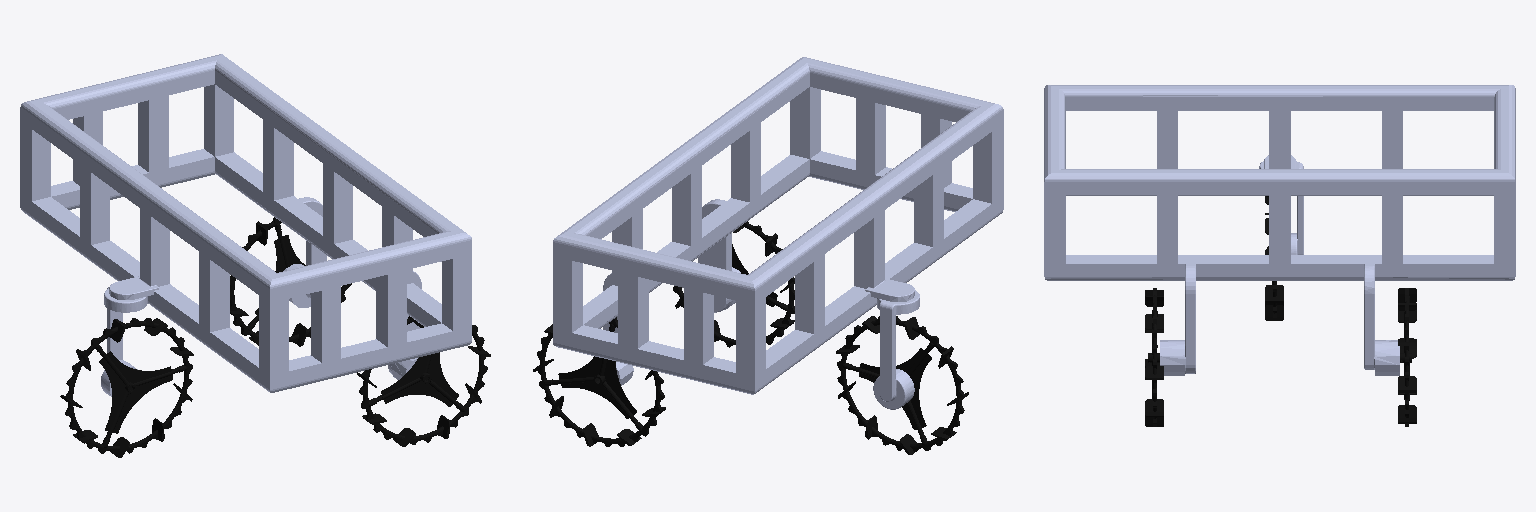
URDF robot description (Sim_Robot_V2):
<?xml version="1.0" encoding="utf-8"?>
<!-- This URDF was automatically created by SolidWorks to URDF Exporter! Originally created by Stephen Brawner (brawner@gmail.com) 
     Commit Version: 1.6.0-4-g7f85cfe  Build Version: 1.6.7995.38578
     For more information, please see http://wiki.ros.org/sw_urdf_exporter -->
<robot
  name="Sim_Robot_V2">
  <link
    name="base_link">
    <inertial>
      <origin
        xyz="0.031015 -0.0039718 -0.31519"
        rpy="0 0 0" />
      <mass
        value="350" />
      <inertia
        ixx="123.38"
        ixy="0.36607"
        ixz="3.3164"
        iyy="44.362"
        iyz="-0.33469"
        izz="147.18" />
    </inertial>
    <visual>
      <origin
        xyz="0 0 0"
        rpy="0 0 0" />
      <geometry>
        <mesh
          filename="package://Sim_Robot_V2/meshes/base_link.STL" />
      </geometry>
      <material
        name="">
        <color
          rgba="0.79216 0.81961 0.93333 1" />
      </material>
    </visual>
    <collision>
      <origin
        xyz="0 0 0"
        rpy="0 0 0" />
      <geometry>
        <mesh
          filename="package://Sim_Robot_V2/meshes/base_link.STL" />
      </geometry>
    </collision>
  </link>
  <link
    name="Front_Left_Link">
    <inertial>
      <origin
        xyz="-5.7704E-05 0.0039655 0.00020942"
        rpy="0 0 0" />
      <mass
        value="5" />
      <inertia
        ixx="0.069062"
        ixy="6.5825E-08"
        ixz="-1.7849E-06"
        iyy="0.13715"
        iyz="-2.2613E-07"
        izz="0.069062" />
    </inertial>
    <visual>
      <origin
        xyz="0 0 0"
        rpy="0 0 0" />
      <geometry>
        <mesh
          filename="package://Sim_Robot_V2/meshes/Front_Left_Link.STL" />
      </geometry>
      <material
        name="">
        <color
          rgba="0.10588 0.10588 0.10588 1" />
      </material>
    </visual>
    <collision>
      <origin
        xyz="0 0 0"
        rpy="0 0 0" />
      <geometry>
        <mesh
          filename="package://Sim_Robot_V2/meshes/Front_Left_Link.STL" />
      </geometry>
    </collision>
  </link>
  <joint
    name="Front_Left_Joint"
    type="continuous">
    <origin
      xyz="0.575 0.60032 -0.93"
      rpy="0 0 0" />
    <parent
      link="base_link" />
    <child
      link="Front_Left_Link" />
    <axis
      xyz="0 1 0" />
  </joint>
  <link
    name="Front_Right_Link">
    <inertial>
      <origin
        xyz="5.0736E-05 0.0039655 0.00021118"
        rpy="0 0 0" />
      <mass
        value="5" />
      <inertia
        ixx="0.069061"
        ixy="-5.184E-08"
        ixz="-1.1979E-06"
        iyy="0.13715"
        iyz="-2.2976E-07"
        izz="0.069063" />
    </inertial>
    <visual>
      <origin
        xyz="0 0 0"
        rpy="0 0 0" />
      <geometry>
        <mesh
          filename="package://Sim_Robot_V2/meshes/Front_Right_Link.STL" />
      </geometry>
      <material
        name="">
        <color
          rgba="0.10588 0.10588 0.10588 1" />
      </material>
    </visual>
    <collision>
      <origin
        xyz="0 0 0"
        rpy="0 0 0" />
      <geometry>
        <mesh
          filename="package://Sim_Robot_V2/meshes/Front_Right_Link.STL" />
      </geometry>
    </collision>
  </link>
  <joint
    name="Front_Right_Joint"
    type="continuous">
    <origin
      xyz="0.575 -0.59968 -0.93"
      rpy="0 0 0" />
    <parent
      link="base_link" />
    <child
      link="Front_Right_Link" />
    <axis
      xyz="0 1 0" />
  </joint>
  <link
    name="Rear_Link_Link">
    <inertial>
      <origin
        xyz="-7.3885E-09 0.040588 -0.26998"
        rpy="0 0 0" />
      <mass
        value="10" />
      <inertia
        ixx="0.1689"
        ixy="6.1635E-10"
        ixz="7.3526E-09"
        iyy="0.16629"
        iyz="0.011954"
        izz="0.017064" />
    </inertial>
    <visual>
      <origin
        xyz="0 0 0"
        rpy="0 0 0" />
      <geometry>
        <mesh
          filename="package://Sim_Robot_V2/meshes/Rear_Link_Link.STL" />
      </geometry>
      <material
        name="">
        <color
          rgba="0.79216 0.81961 0.93333 1" />
      </material>
    </visual>
    <collision>
      <origin
        xyz="0 0 0"
        rpy="0 0 0" />
      <geometry>
        <mesh
          filename="package://Sim_Robot_V2/meshes/Rear_Link_Link.STL" />
      </geometry>
    </collision>
  </link>
  <joint
    name="Rear_Link_Joint"
    type="revolute">
    <origin
      xyz="-0.625 0.00064181 -0.48"
      rpy="0 0 0" />
    <parent
      link="base_link" />
    <child
      link="Rear_Link_Link" />
    <axis
      xyz="0 0 -1" />
    <limit
      lower="0"
      upper="0"
      effort="0"
      velocity="0" />
  </joint>
  <link
    name="Rear_Wheel_Link">
    <inertial>
      <origin
        xyz="-8.4498E-05 0.0039655 -0.00020011"
        rpy="0 0 0" />
      <mass
        value="5" />
      <inertia
        ixx="0.06906"
        ixy="8.8515E-08"
        ixz="-6.9765E-07"
        iyy="0.13715"
        iyz="2.1842E-07"
        izz="0.069064" />
    </inertial>
    <visual>
      <origin
        xyz="0 0 0"
        rpy="0 0 0" />
      <geometry>
        <mesh
          filename="package://Sim_Robot_V2/meshes/Rear_Wheel_Link.STL" />
      </geometry>
      <material
        name="">
        <color
          rgba="0.10588 0.10588 0.10588 1" />
      </material>
    </visual>
    <collision>
      <origin
        xyz="0 0 0"
        rpy="0 0 0" />
      <geometry>
        <mesh
          filename="package://Sim_Robot_V2/meshes/Rear_Wheel_Link.STL" />
      </geometry>
    </collision>
  </link>
  <joint
    name="Rear_Wheel_Joint"
    type="continuous">
    <origin
      xyz="0 -0.030325 -0.45"
      rpy="0 0 0" />
    <parent
      link="Rear_Link_Link" />
    <child
      link="Rear_Wheel_Link" />
    <axis
      xyz="0 1 0" />
  </joint>
</robot>

--- What the picture shows (computed from the rendered views, not written in the file) ---
Views: 3 orthographic renders of the robot side by side, from view 1: azimuth 30°, elevation 25°; view 2: azimuth 150°, elevation 25°; view 3: azimuth 270°, elevation 25°.
Model Sim_Robot_V2 with 5 links and 4 joints (1 revolute, 3 continuous), rooted at base_link, posed every joint at zero.
Links seen in each view (by area): view 1: base_link, Rear_Wheel_Link, Front_Right_Link, Front_Left_Link, Rear_Link_Link; view 2: base_link, Rear_Wheel_Link, Front_Left_Link, Rear_Link_Link, Front_Right_Link; view 3: base_link, Front_Left_Link, Front_Right_Link, Rear_Wheel_Link, Rear_Link_Link.
Boxes of the visible links, x1,y1,x2,y2 form: base_link: (20, 54, 471, 392); Rear_Wheel_Link: (60, 318, 193, 457); Front_Right_Link: (357, 316, 490, 446); Front_Left_Link: (230, 217, 351, 346); Rear_Link_Link: (101, 287, 147, 396); base_link: (553, 57, 1003, 394); Rear_Wheel_Link: (836, 316, 968, 454); Front_Left_Link: (533, 317, 665, 446); Rear_Link_Link: (873, 290, 919, 409); Front_Right_Link: (673, 221, 794, 347); base_link: (1044, 85, 1515, 375); Front_Left_Link: (1398, 288, 1416, 426); Front_Right_Link: (1145, 288, 1163, 426); Rear_Wheel_Link: (1265, 196, 1283, 320); Rear_Link_Link: (1259, 161, 1303, 254).
Bounding box of the posed robot: 1.86 × 2.24 × 1.26 m (x, y, z).
Meshes: 5 distinct files referenced, 5 mesh visuals loaded (5 binary STL).
